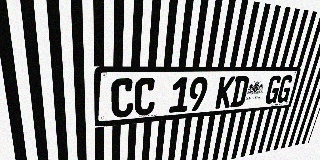1: (169, 77, 191, 113)
9: (187, 77, 209, 111)
C: (111, 78, 135, 118), (134, 78, 157, 116)
D: (230, 76, 250, 107)
G: (264, 75, 283, 104), (276, 75, 294, 103)
K: (215, 76, 235, 109)
